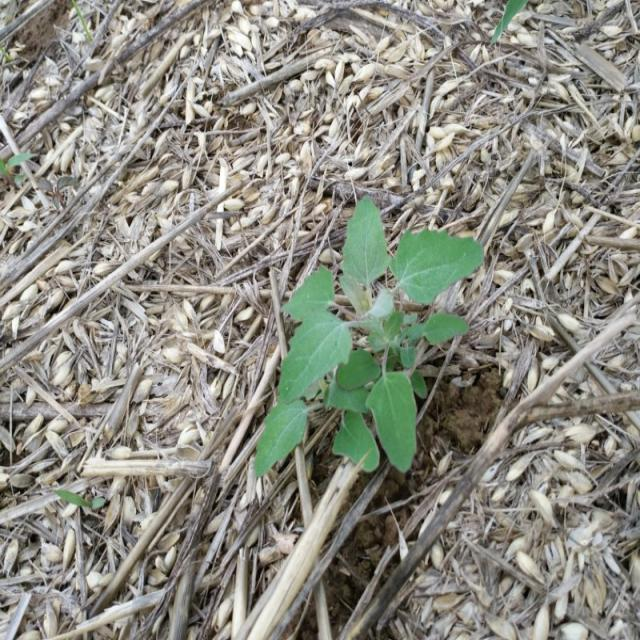goosefoots: (247, 198, 498, 477)
